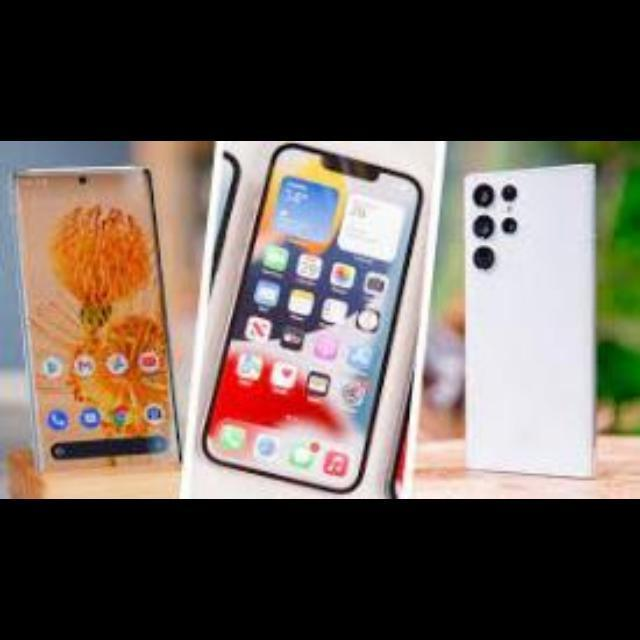PhoneUse: (195, 147, 425, 489), (7, 166, 179, 498), (461, 172, 602, 478)
